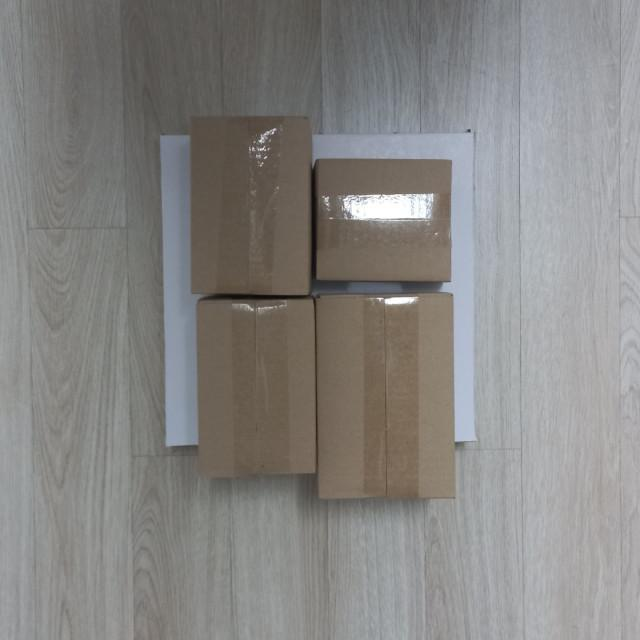box: (314, 289, 459, 503), (185, 110, 313, 302), (192, 297, 316, 480), (313, 157, 455, 286)
